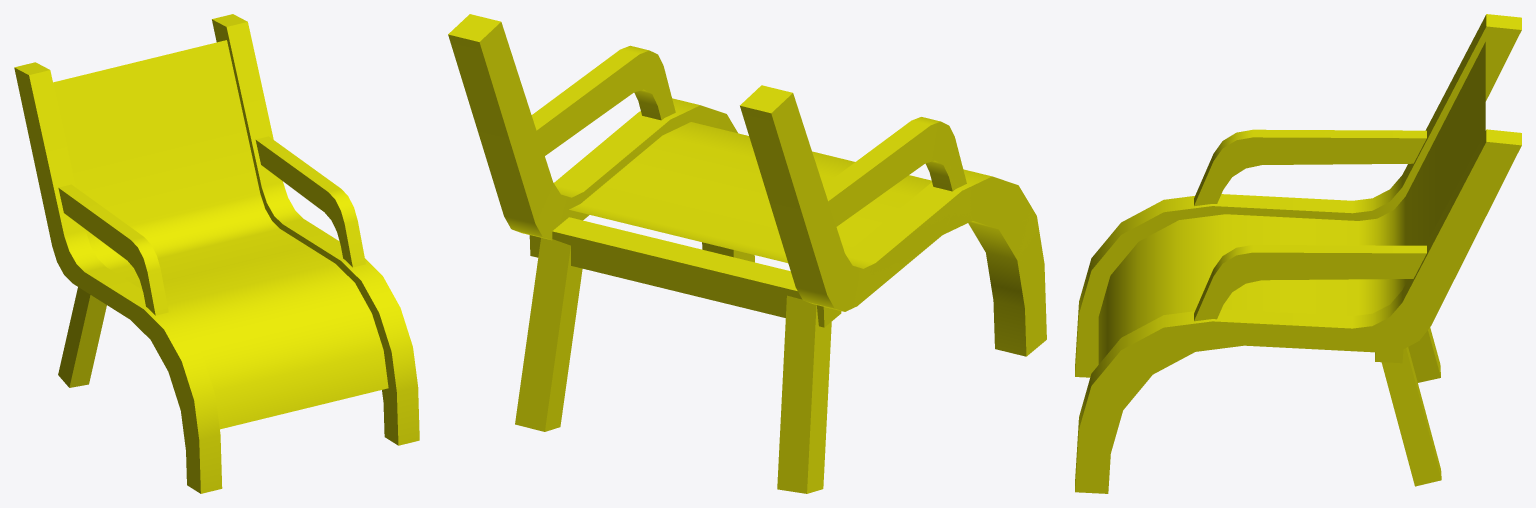
3 views of the same model, side by side, from view 1: azimuth 30°, elevation 25°; view 2: azimuth 150°, elevation 25°; view 3: azimuth 270°, elevation 25° (orthographic). The views are drawn at different scales.
Visible parts, largest first — view 1: ghe; view 2: ghe; view 3: ghe.
Boxes of the visible parts, x1,y1,x2,y2 form: ghe: (14, 14, 419, 493); ghe: (448, 14, 1046, 493); ghe: (1075, 14, 1521, 493).
Bounding box in the file's own units: 2.36 × 3.03 × 3.48.
1 material, 1 textured.
